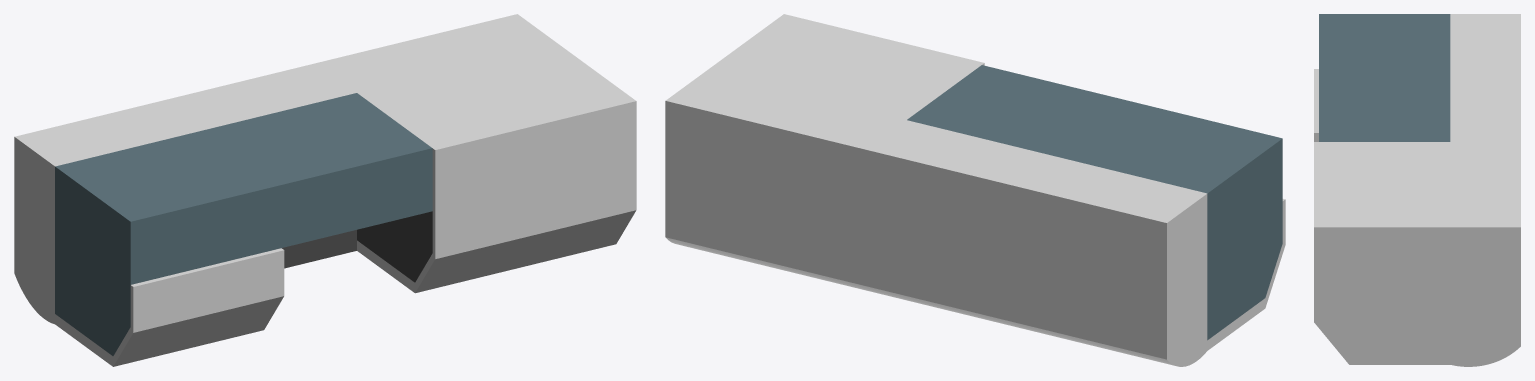
The model's file is cnc_lathe_machine_1_state_1.dae.
3 views of the same model, side by side, from view 1: azimuth 30°, elevation 25°; view 2: azimuth 150°, elevation 25°; view 3: azimuth 270°, elevation 25° (orthographic). The views are drawn at different scales.
Visible parts, largest first — view 1: coords_ME_ID11_MA_material_8, coords_ME_ID39_MA_material_16, coords_ME_ID33_MA_material; view 2: coords_ME_ID11_MA_material_8, coords_ME_ID39_MA_material_16; view 3: coords_ME_ID11_MA_material_8, coords_ME_ID39_MA_material_16.
Boxes of the visible parts, x1,y1,x2,y2 form: coords_ME_ID11_MA_material_8: [14, 14, 636, 366]; coords_ME_ID39_MA_material_16: [55, 93, 432, 355]; coords_ME_ID33_MA_material: [282, 211, 432, 282]; coords_ME_ID11_MA_material_8: [665, 14, 1285, 366]; coords_ME_ID39_MA_material_16: [907, 65, 1282, 340]; coords_ME_ID11_MA_material_8: [1314, 14, 1520, 366]; coords_ME_ID39_MA_material_16: [1319, 14, 1450, 141].
Size of the model in its own units: 66.93 by 20.75 by 27.41.
